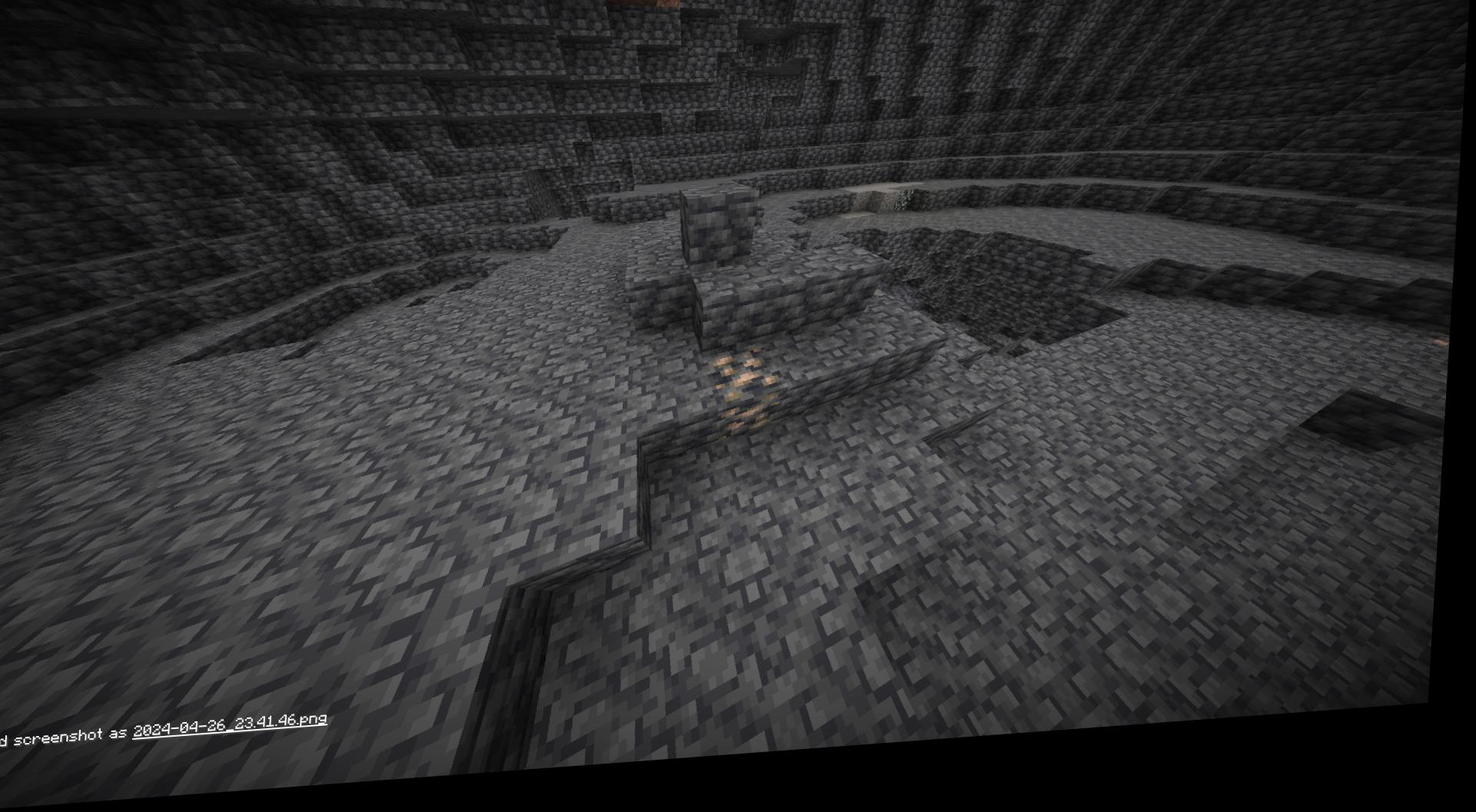iron ore: (716, 355, 784, 409), (727, 405, 785, 453)
